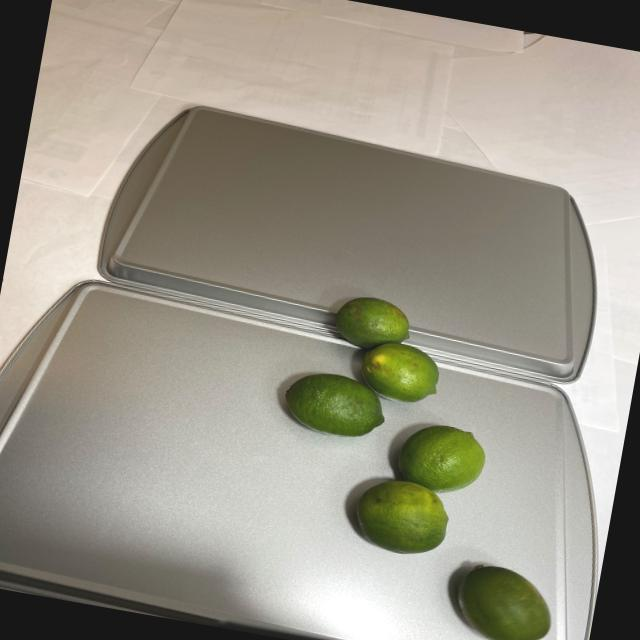lemon: (244, 281, 601, 640)
